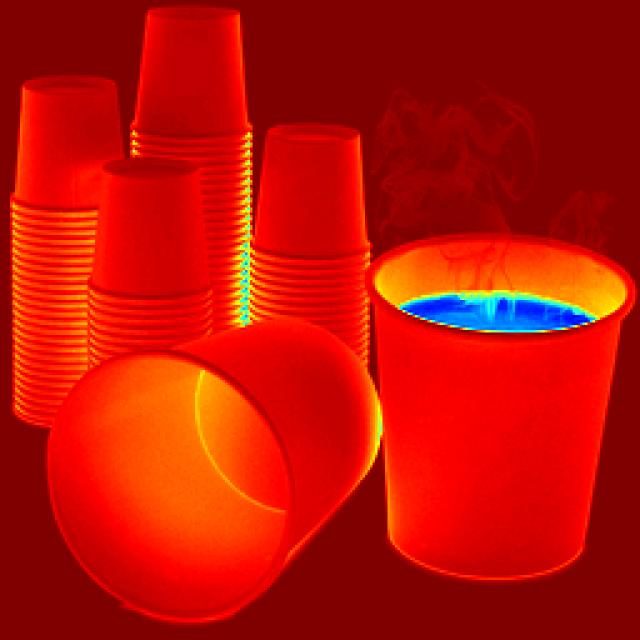Paper Cups: (362, 214, 629, 584), (77, 312, 331, 616), (92, 146, 204, 300), (14, 77, 135, 208), (149, 8, 260, 132), (264, 124, 358, 247)
